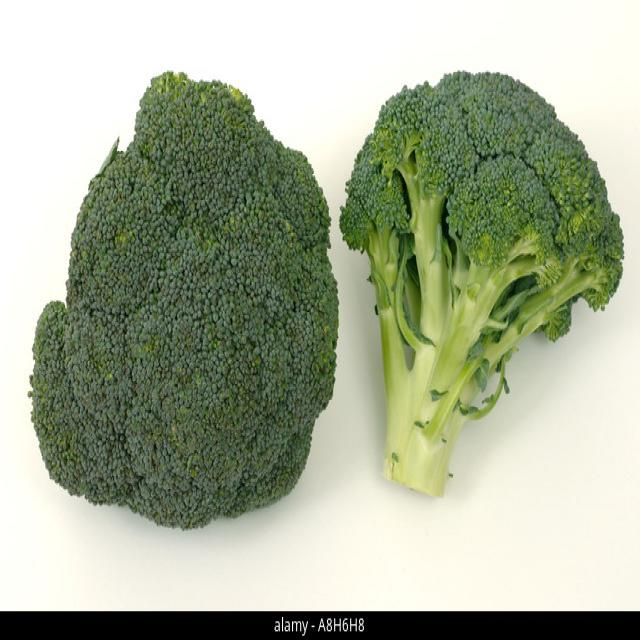broccoli: (28, 83, 338, 529), (338, 66, 626, 501)
